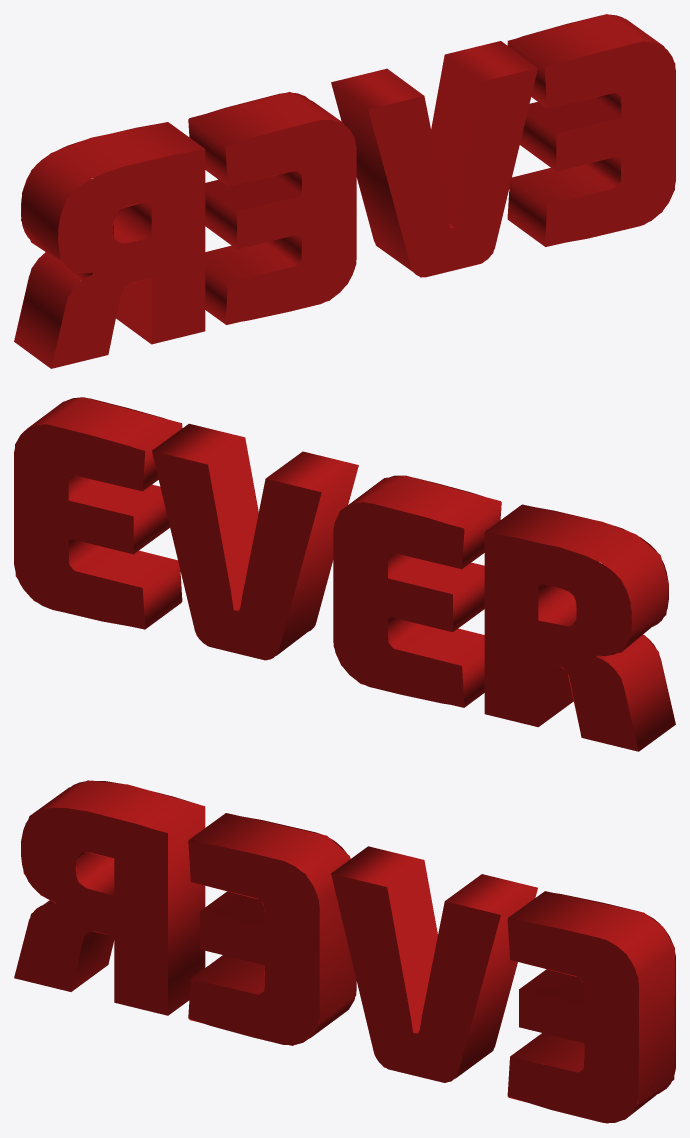
File: ever.fbx
3 views of the same model, one above another, from view 1: azimuth 30°, elevation 25°; view 2: azimuth 150°, elevation 25°; view 3: azimuth 330°, elevation 25° (orthographic).
Visible parts, largest first — view 1: Text; view 2: Text; view 3: Text.
Boxes of the visible parts, x1,y1,x2,y2 form: Text: (14, 14, 675, 368); Text: (14, 397, 675, 751); Text: (14, 780, 675, 1123).
Size of the model in its own units: 7.76 by 2.21 by 0.8.
